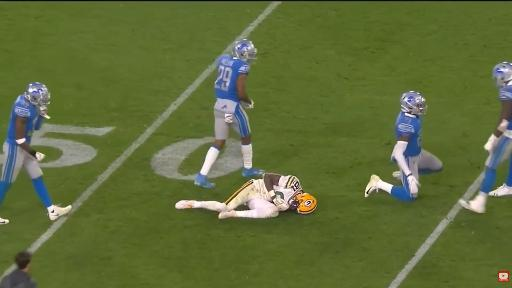Helmet: (24, 83, 50, 108), (400, 91, 427, 115), (232, 40, 257, 62), (291, 193, 317, 214), (493, 62, 511, 87)
Jersey: (6, 95, 38, 144), (215, 56, 249, 102), (395, 112, 421, 157), (274, 176, 302, 204), (499, 86, 511, 101)
Player: (195, 40, 264, 187), (0, 83, 71, 220), (460, 62, 511, 213), (365, 91, 427, 201), (176, 174, 317, 218), (419, 149, 442, 174)
